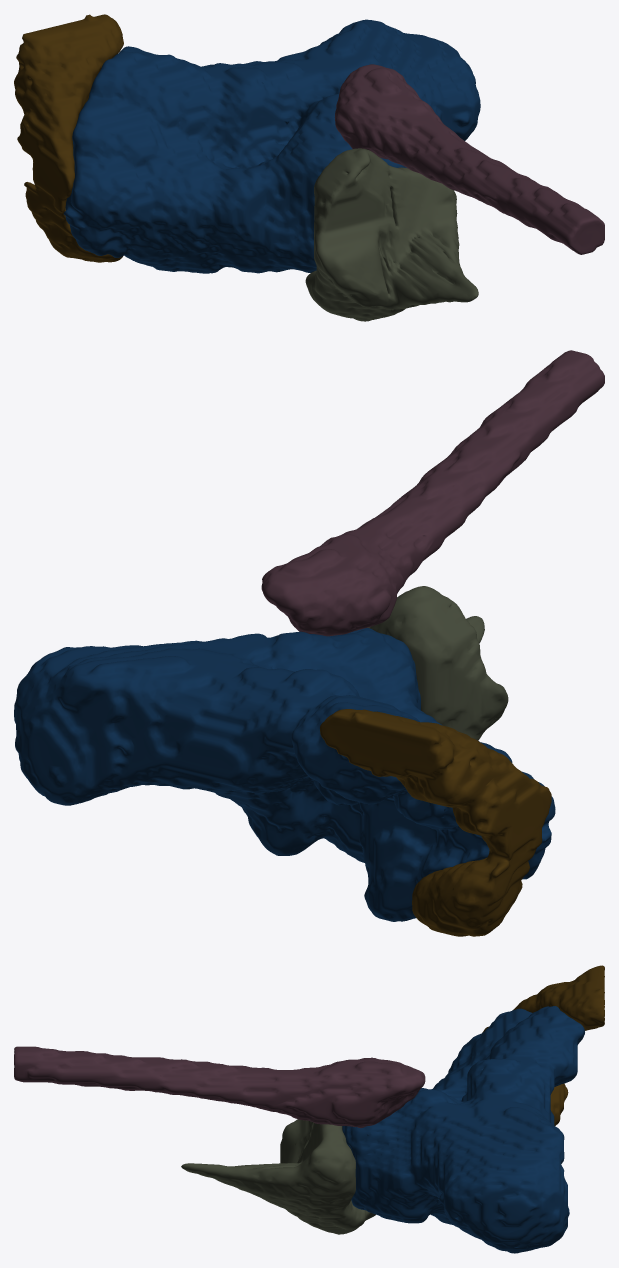
The model's file is distal102.obj.
3 renders of one model, top to bottom at view 1: azimuth 30°, elevation 25°; view 2: azimuth 150°, elevation 25°; view 3: azimuth 270°, elevation 25°, orthographic. The views are drawn at different scales.
Parts seen in each view (by area): view 1: 2_JOINT_SC_3_segmentation.015; view 2: 2_JOINT_SC_3_segmentation.015; view 3: 2_JOINT_SC_3_segmentation.015.
Part boxes in pixels (<box>): 2_JOINT_SC_3_segmentation.015: <box>14,14,604,321</box>; 2_JOINT_SC_3_segmentation.015: <box>14,350,604,936</box>; 2_JOINT_SC_3_segmentation.015: <box>14,965,604,1253</box>.
Size of the model in its own units: 0.1324 by 0.0712 by 0.1916.
